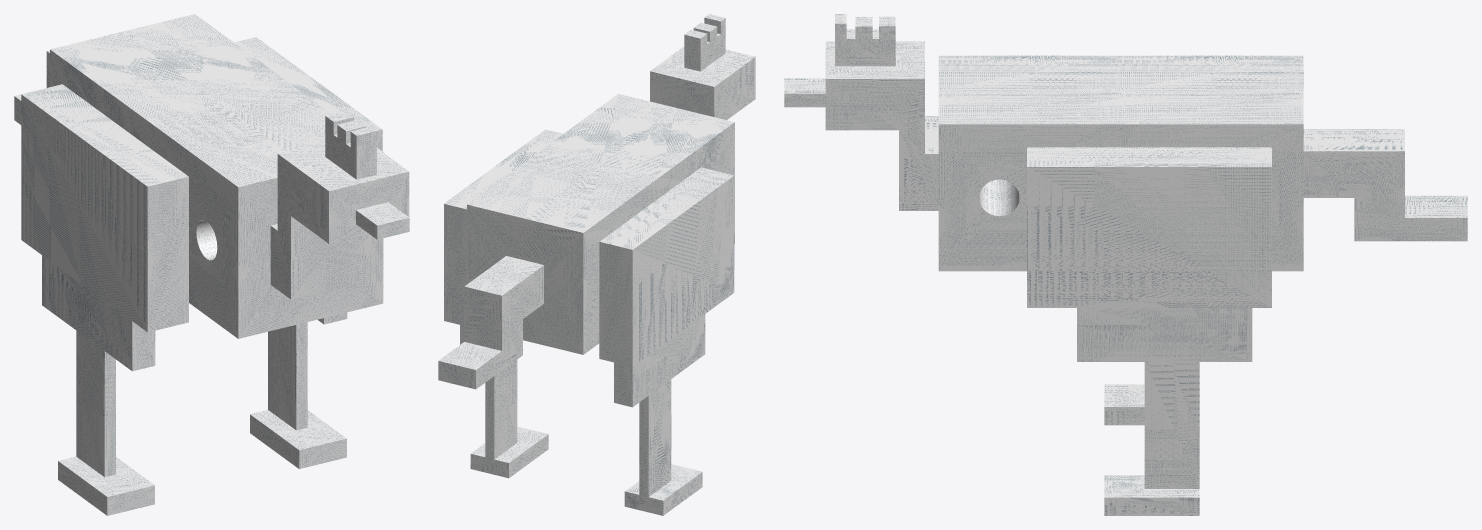
The model's file is 치킨 프로토.fbx.
3 renders of one model, left to right at view 1: azimuth 30°, elevation 25°; view 2: azimuth 150°, elevation 25°; view 3: azimuth 270°, elevation 25°, orthographic. The views are drawn at different scales.
Parts seen in each view (by area): view 1: Group3, Group4, Model, Group2; view 2: Group3, Model, Group4, Group1, Group2; view 3: Group4, Group3, Group2, Group1.
Boxes of the visible parts, bbox=[...] form: Group3: bbox=[50, 14, 383, 338]; Group4: bbox=[42, 37, 382, 515]; Model: bbox=[21, 84, 188, 331]; Group2: bbox=[270, 111, 409, 299]; Group3: bbox=[467, 93, 734, 354]; Model: bbox=[599, 167, 734, 366]; Group4: bbox=[444, 129, 705, 515]; Group1: bbox=[438, 256, 543, 389]; Group2: bbox=[650, 14, 755, 119]; Group4: bbox=[1027, 147, 1271, 515]; Group3: bbox=[938, 55, 1303, 271]; Group2: bbox=[784, 14, 938, 210]; Group1: bbox=[1303, 129, 1467, 241].
Size of the model in its own units: 66.07 by 120 by 168.
